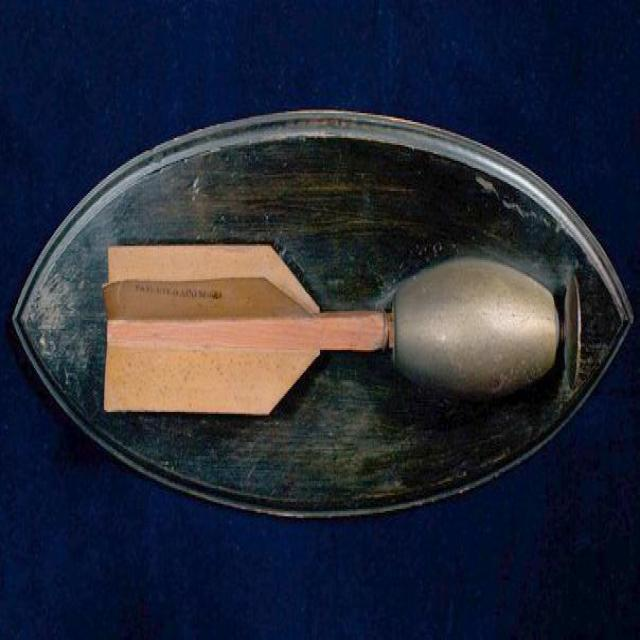grenade: (393, 256, 581, 410)
